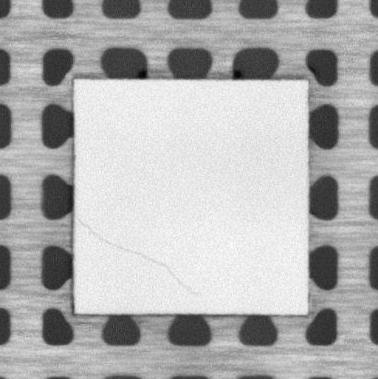DIE_CRACK: (83, 220, 201, 297)
